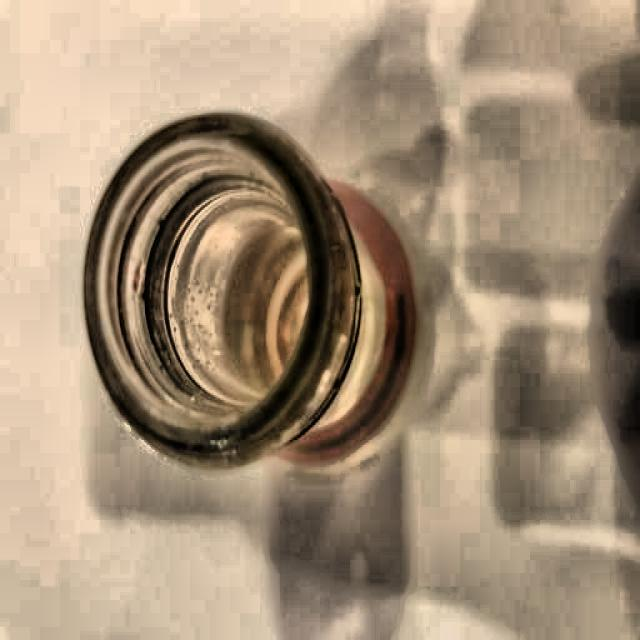glass: (79, 101, 437, 472)
